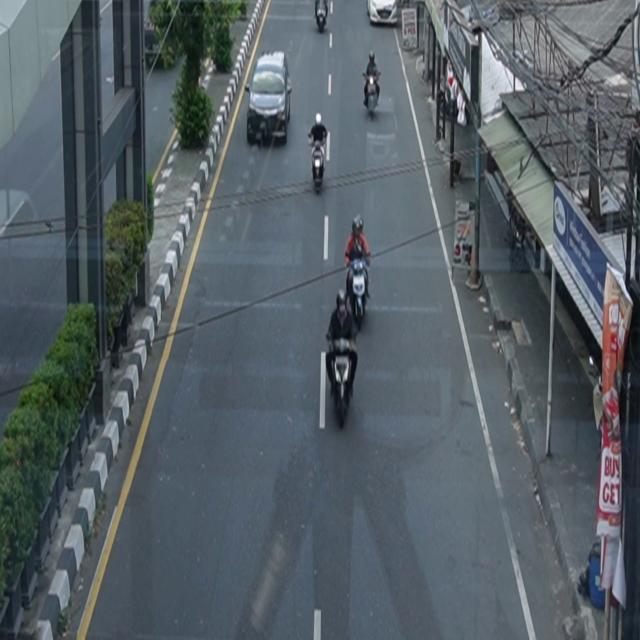car: (247, 51, 293, 147), (367, 1, 398, 26)
